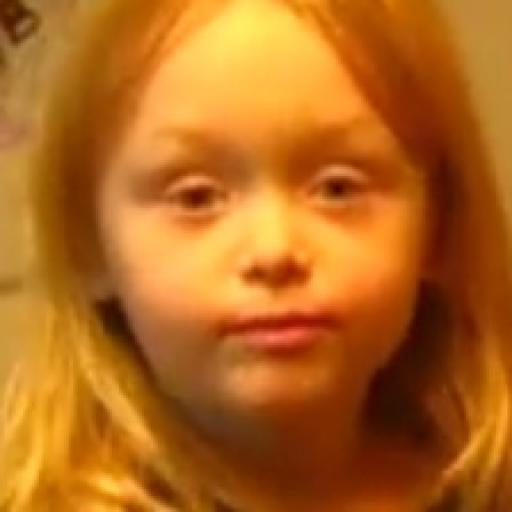Autism: (58, 8, 466, 467)
